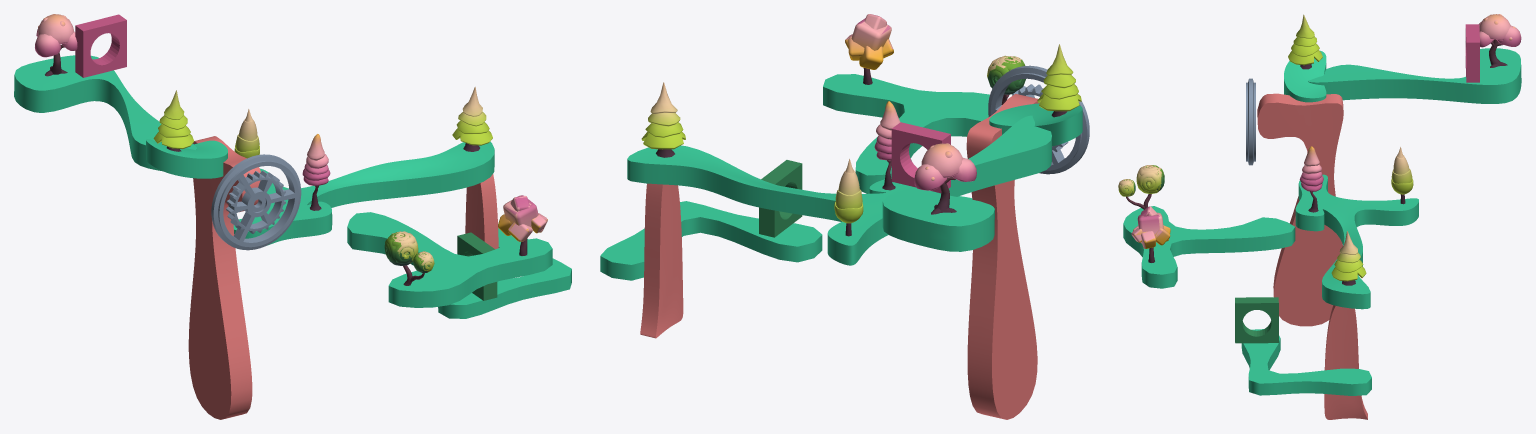
3 renders of one model, left to right at view 1: azimuth 30°, elevation 25°; view 2: azimuth 150°, elevation 25°; view 3: azimuth 270°, elevation 25°, orthographic. The views are drawn at different scales.
Visible parts, largest first — view 1: 物件_249.001, 物件_6.002, 物件_1.001, 物件_156.001, gear38_gears_0, 物件_3.001, 物件_5.001, 物件_312.001, 物件_4.002, samor_1075_18.001, samor_1075_26.001, samor_1075_08.001 (+5 smaller); view 2: 物件_249.001, 物件_156.001, 物件_6.002, 物件_1.001, 物件_3.001, 物件_4.002, gear38_gears_0, samor_1075_18.001, 物件_5.001, samor_1075_26.001, 物件_312.001, samor_1075_22.001 (+5 smaller); view 3: 物件_249.001, 物件_156.001, 物件_6.002, 物件_1.001, 物件_3.001, 物件_4.002, 物件_312.003, 物件_5.001, samor_1075_18.001, samor_1075_26.001, samor_1075_08.001, samor_1075_22.001 (+5 smaller).
Boxes of the visible parts, x1=… form: 物件_249.001: x1=188, y1=136, x2=260, y2=419; 物件_6.002: x1=233, y1=141, x2=494, y2=245; 物件_1.001: x1=347, y1=212, x2=552, y2=307; 物件_156.001: x1=14, y1=55, x2=196, y2=171; gear38_gears_0: x1=211, y1=154, x2=301, y2=250; 物件_3.001: x1=438, y1=228, x2=571, y2=318; 物件_5.001: x1=146, y1=139, x2=227, y2=178; 物件_312.001: x1=75, y1=14, x2=126, y2=77; 物件_4.002: x1=465, y1=174, x2=498, y2=249; samor_1075_18.001: x1=35, y1=14, x2=77, y2=76; samor_1075_26.001: x1=498, y1=195, x2=547, y2=255; samor_1075_08.001: x1=384, y1=231, x2=434, y2=285; 物件_249.001: x1=966, y1=94, x2=1039, y2=419; 物件_156.001: x1=882, y1=115, x2=1051, y2=251; 物件_6.002: x1=627, y1=145, x2=972, y2=265; 物件_1.001: x1=823, y1=74, x2=989, y2=193; 物件_3.001: x1=600, y1=201, x2=822, y2=280; 物件_4.002: x1=640, y1=183, x2=683, y2=338; gear38_gears_0: x1=988, y1=65, x2=1089, y2=174; samor_1075_18.001: x1=914, y1=143, x2=976, y2=214; 物件_5.001: x1=989, y1=103, x2=1082, y2=146; samor_1075_26.001: x1=845, y1=14, x2=893, y2=84; 物件_312.001: x1=891, y1=122, x2=950, y2=193; samor_1075_22.001: x1=641, y1=82, x2=685, y2=157; 物件_249.001: x1=1257, y1=93, x2=1343, y2=326; 物件_156.001: x1=1308, y1=48, x2=1521, y2=103; 物件_6.002: x1=1295, y1=174, x2=1418, y2=309; 物件_1.001: x1=1123, y1=206, x2=1295, y2=288; 物件_3.001: x1=1241, y1=329, x2=1371, y2=395; 物件_4.002: x1=1324, y1=305, x2=1367, y2=419; 物件_312.003: x1=1235, y1=297, x2=1278, y2=343; 物件_5.001: x1=1284, y1=50, x2=1326, y2=102; samor_1075_18.001: x1=1479, y1=14, x2=1521, y2=67; samor_1075_26.001: x1=1131, y1=206, x2=1170, y2=262; samor_1075_08.001: x1=1118, y1=165, x2=1164, y2=209; samor_1075_22.001: x1=1331, y1=231, x2=1366, y2=285.
Bounding box in the file's own units: 3487 × 2675 × 3398.
Materials: 6 (1 with a texture image).
